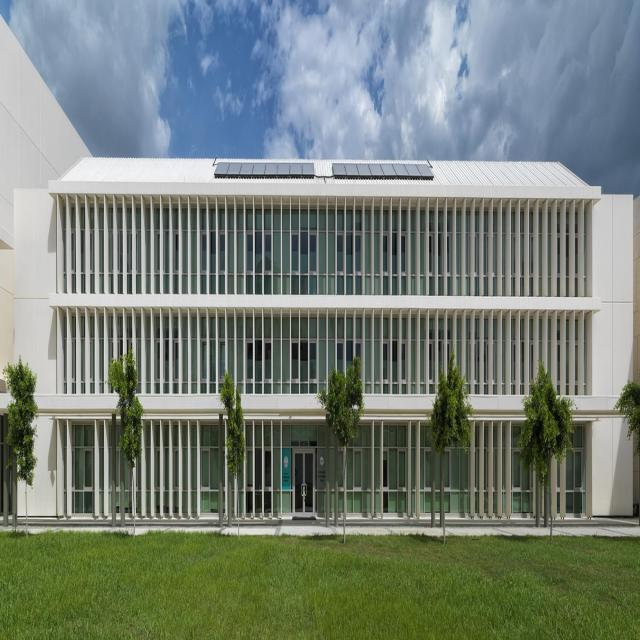door: (292, 446, 316, 520)
window: (255, 338, 262, 394), (256, 236, 263, 292), (310, 338, 317, 394), (355, 338, 362, 394), (265, 339, 272, 394), (265, 237, 272, 292), (292, 337, 299, 392), (292, 235, 299, 290), (310, 236, 317, 291), (337, 337, 344, 392), (338, 235, 345, 290), (355, 236, 362, 291), (221, 340, 228, 395), (212, 340, 219, 395), (401, 340, 408, 395), (392, 340, 399, 395), (383, 339, 390, 394), (391, 237, 398, 292), (382, 236, 389, 291), (247, 235, 253, 291), (401, 237, 407, 293), (247, 338, 253, 393), (301, 338, 307, 393), (301, 236, 307, 291), (347, 338, 353, 393), (347, 236, 353, 291), (203, 339, 209, 394)
